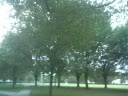window: (80, 38, 95, 63), (61, 47, 72, 67), (83, 82, 94, 96), (59, 87, 68, 96), (125, 19, 128, 42)
